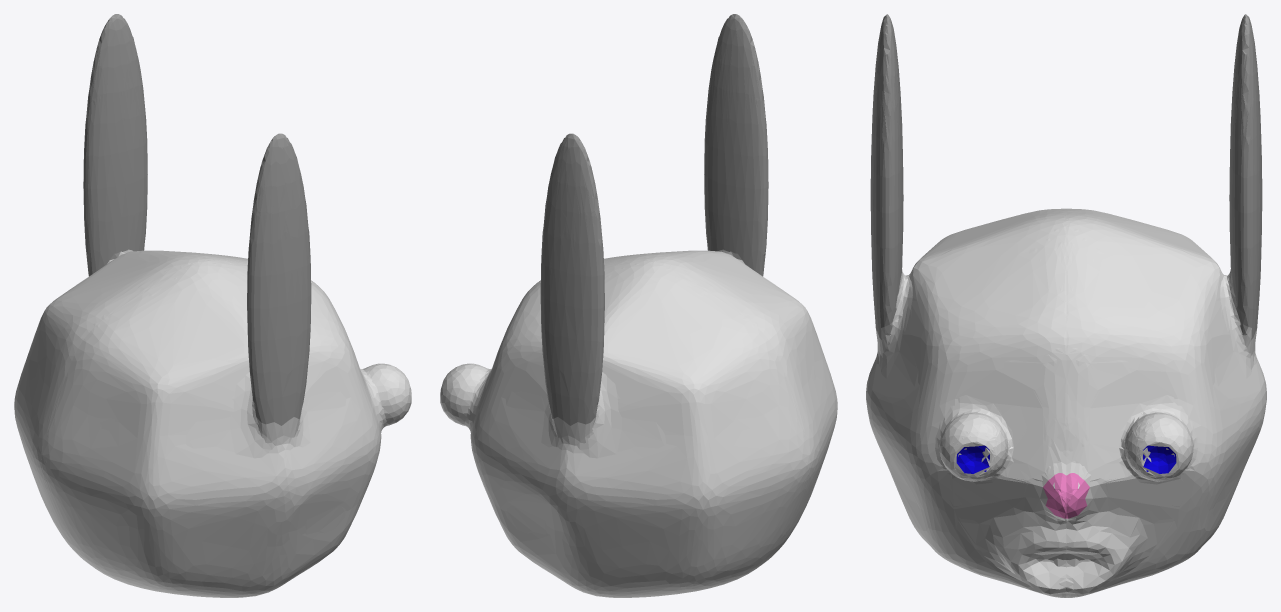
Rendered from SurprisedRabbit.fbx.
3 views of the same model, side by side, from view 1: azimuth 30°, elevation 25°; view 2: azimuth 150°, elevation 25°; view 3: azimuth 270°, elevation 25° (orthographic). The views are drawn at different scales.
Visible parts, largest first — view 1: Cube; view 2: Cube; view 3: Cube.
Boxes of the visible parts, x1,y1,x2,y2 form: Cube: (14,14,411,597); Cube: (440,14,837,597); Cube: (866,14,1266,597).
Size of the model in its own units: 384 by 569 by 369.
